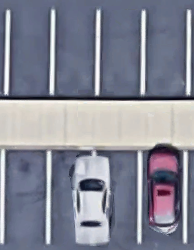Occupied: (48, 148, 94, 244), (140, 149, 186, 244), (95, 149, 140, 244)
Vacant: (3, 148, 49, 245), (7, 9, 53, 98), (53, 9, 98, 99), (98, 9, 143, 99), (143, 10, 188, 99)
